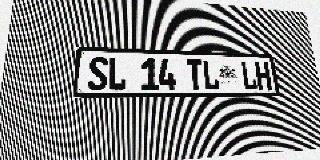1: (141, 58, 159, 90)
4: (158, 58, 176, 90)
H: (255, 61, 272, 90)
L: (108, 57, 127, 90), (202, 60, 220, 90), (240, 61, 258, 90)
S: (88, 56, 108, 91)
T: (186, 59, 204, 90)
